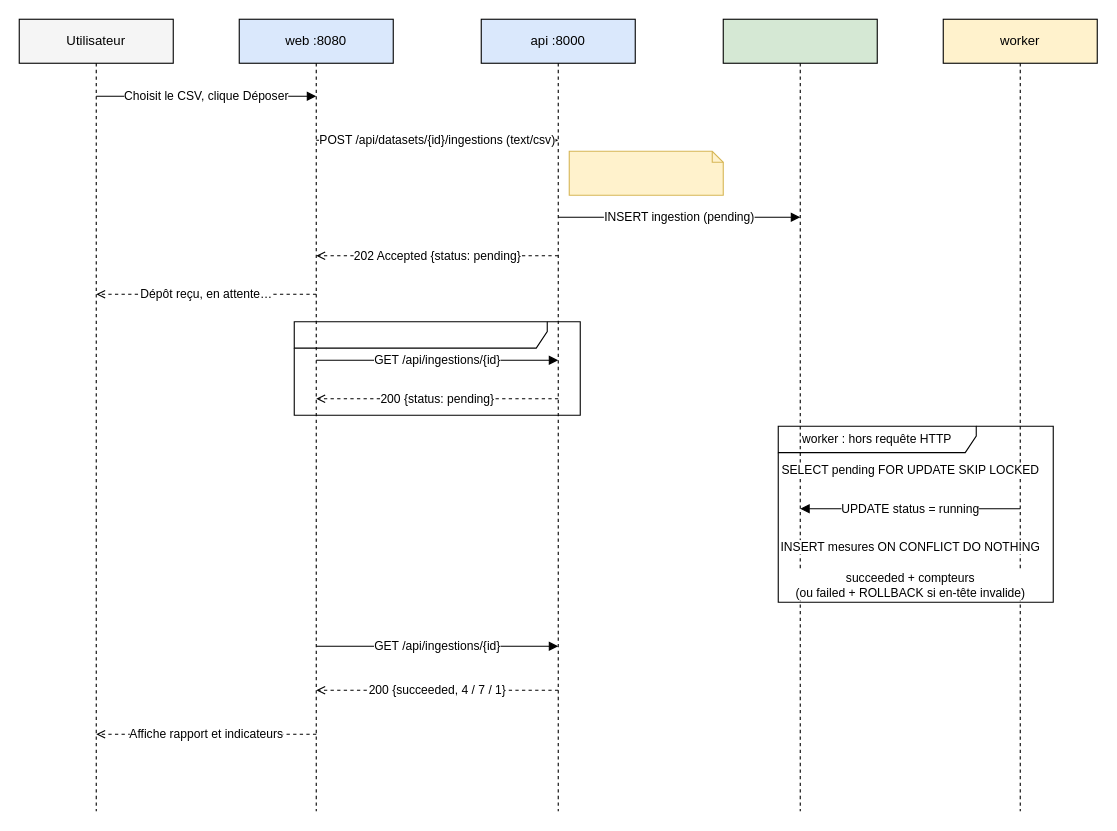
The diagram is 1117 pixels wide and 831 high, and some of its shapes have lost their labels. Each missing label, with the box of its shape:
Contrôles : 413 trop gros, 415 pas CSV, 422 vide: (568, 150, 723, 195)
db :5432: (722, 18, 877, 811)
loop : toutes les 2 s (essais bornés): (293, 321, 580, 415)
